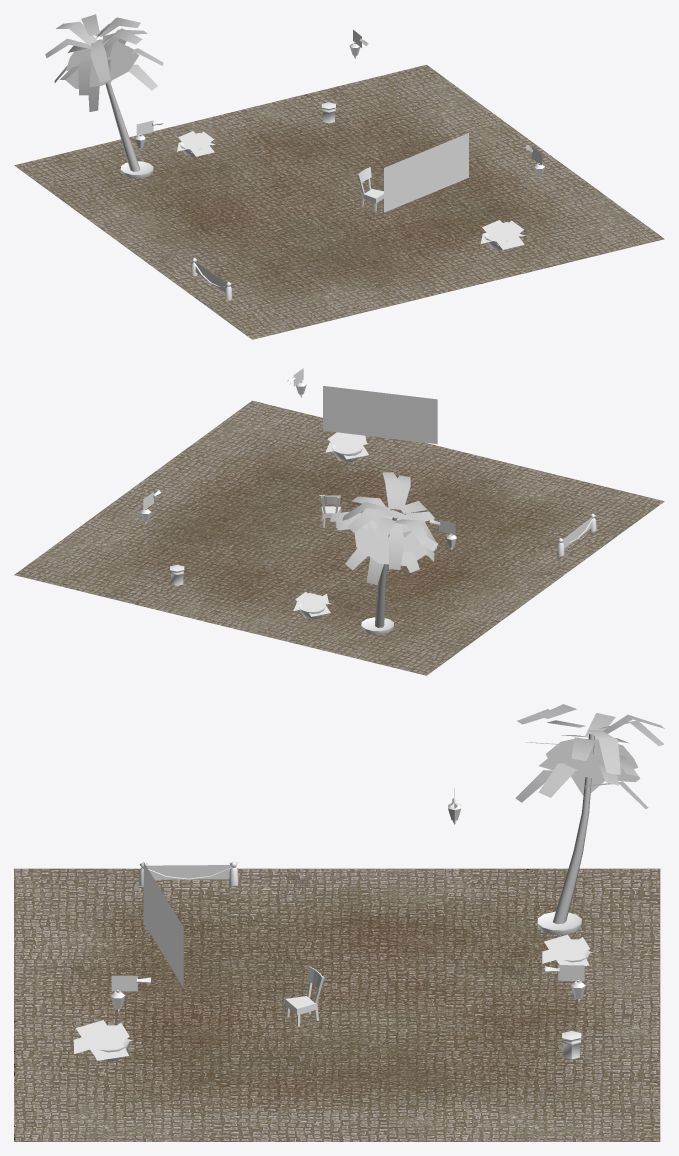
The model's file is propsonly_3.gltf.
3 views of the same model, one above another, from view 1: azimuth 30°, elevation 25°; view 2: azimuth 150°, elevation 25°; view 3: azimuth 270°, elevation 25° (orthographic). The views are drawn at different scales.
Parts seen in each view (by area): view 1: ground.012, prop_tree1.004, prop_lights1.003, prop_pot_flower1.007, prop_pot_flower1.006, prop_chain_fence1.008, prop_chair1.004; view 2: ground.012, prop_tree1.004, prop_lights1.003, prop_pot_flower1.007, prop_pot_flower1.006, prop_chain_fence1.008; view 3: ground.012, prop_tree1.004, prop_lights1.003, prop_pot_flower1.007, prop_chain_fence1.008, prop_pot_flower1.006, prop_chair1.004, prop_lamp1.013, prop_pot1.011, prop_lamp1.012.
Boxes of the visible parts, x1,y1,x2,y2 form: ground.012: (14, 64, 664, 339); prop_tree1.004: (45, 14, 163, 171); prop_lights1.003: (384, 133, 468, 212); prop_pot_flower1.007: (480, 220, 525, 249); prop_pot_flower1.006: (177, 131, 215, 156); prop_chain_fence1.008: (191, 258, 232, 300); prop_chair1.004: (357, 167, 383, 211); ground.012: (14, 400, 664, 675); prop_tree1.004: (330, 472, 438, 627); prop_lights1.003: (323, 386, 437, 444); prop_pot_flower1.007: (325, 432, 369, 459); prop_pot_flower1.006: (293, 592, 331, 616); prop_chain_fence1.008: (557, 513, 596, 556); ground.012: (14, 868, 660, 1141); prop_tree1.004: (515, 704, 664, 924); prop_lights1.003: (143, 862, 183, 987); prop_pot_flower1.007: (74, 1020, 132, 1060); prop_chain_fence1.008: (138, 861, 238, 886); prop_pot_flower1.006: (542, 934, 592, 965); prop_chair1.004: (285, 966, 324, 1026); prop_lamp1.013: (110, 975, 150, 1012); prop_pot1.011: (537, 911, 581, 934); prop_lamp1.012: (545, 965, 585, 1003).
Size of what is drawn, in the model's own units: 3.3 by 1.23 by 3.32.
